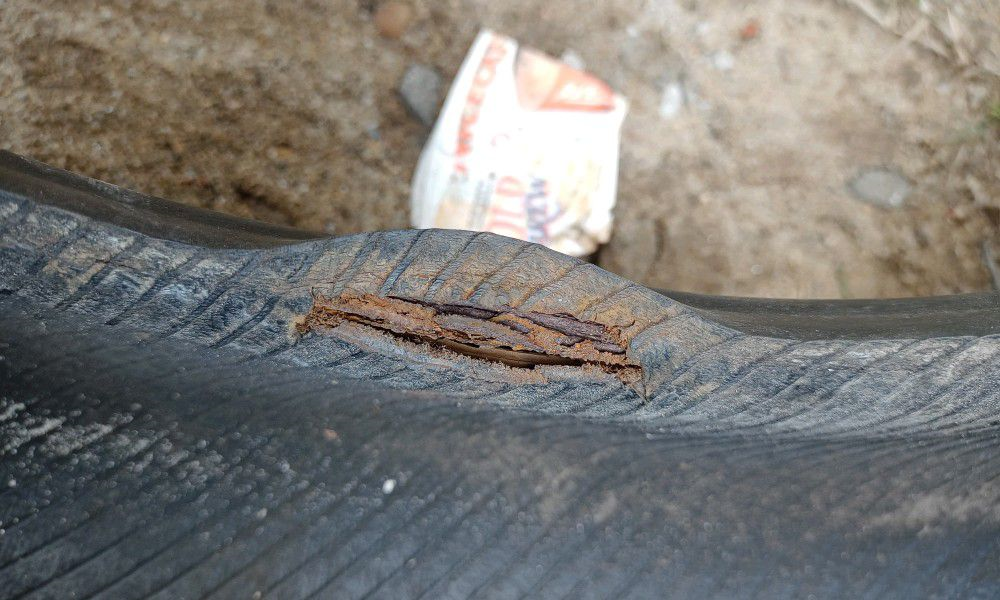bead_damage: (243, 223, 717, 415)
